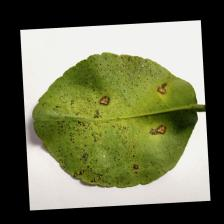canker: (91, 81, 177, 142)
